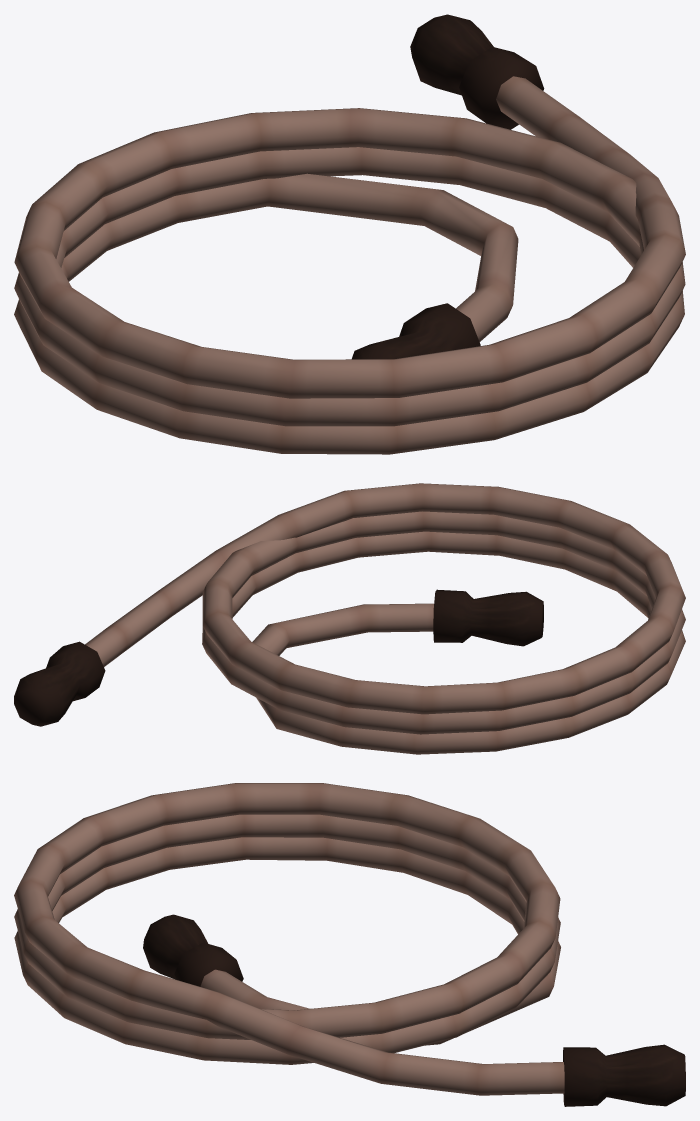
File: SkippingRope.fbx
3 views of the same model, one above another, from view 1: azimuth 30°, elevation 25°; view 2: azimuth 150°, elevation 25°; view 3: azimuth 270°, elevation 25° (orthographic). The views are drawn at different scales.
Visible parts, largest first — view 1: SkippingRope; view 2: SkippingRope; view 3: SkippingRope.
Part boxes in pixels (x1,y1,x2,y2): SkippingRope: [14, 14, 685, 454]; SkippingRope: [14, 483, 685, 754]; SkippingRope: [14, 783, 685, 1106].
Size of the model in its own units: 4.88 by 0.9501 by 5.34.
